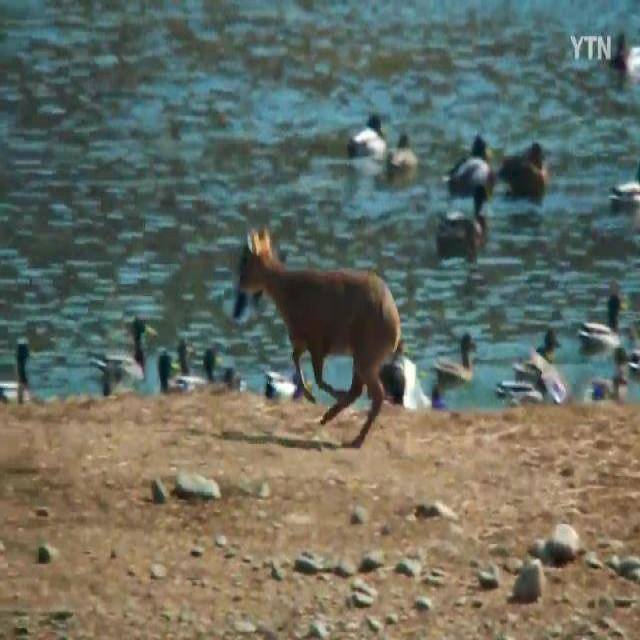deer: (240, 226, 400, 451)
